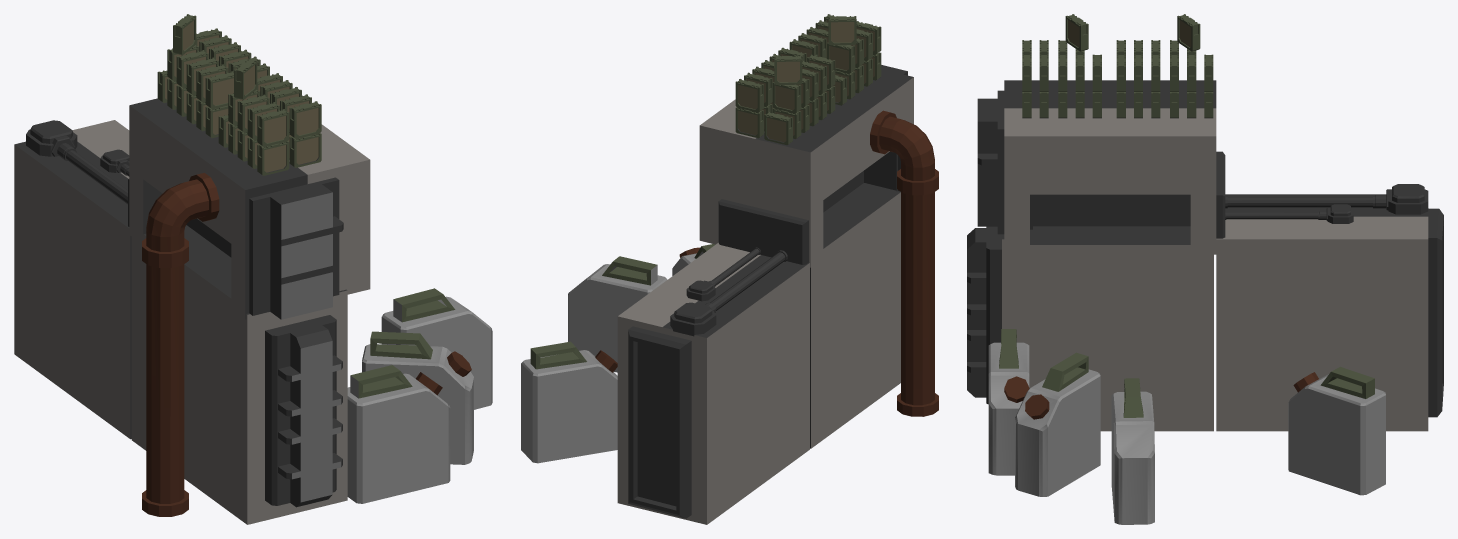
The picture shows the model from 3 angles, left to right: view 1: azimuth 30°, elevation 25°; view 2: azimuth 150°, elevation 25°; view 3: azimuth 270°, elevation 25°; orthographic projection. The views are drawn at different scales.
Visible parts, largest first — view 1: GT_GA_Large Structures_5.2304, GT_GA_Large Structures_5.008; view 2: GT_GA_Large Structures_5.2304, GT_GA_Large Structures_5.008; view 3: GT_GA_Large Structures_5.2304, GT_GA_Large Structures_5.008.
Boxes of the visible parts, <box> form: GT_GA_Large Structures_5.2304: <box>14,14,370,524</box>; GT_GA_Large Structures_5.008: <box>347,288,492,503</box>; GT_GA_Large Structures_5.2304: <box>617,14,938,524</box>; GT_GA_Large Structures_5.008: <box>521,244,715,463</box>; GT_GA_Large Structures_5.2304: <box>967,14,1443,431</box>; GT_GA_Large Structures_5.008: <box>988,329,1385,524</box>.
Bounding box in the file's own units: 298 × 320 × 360.
